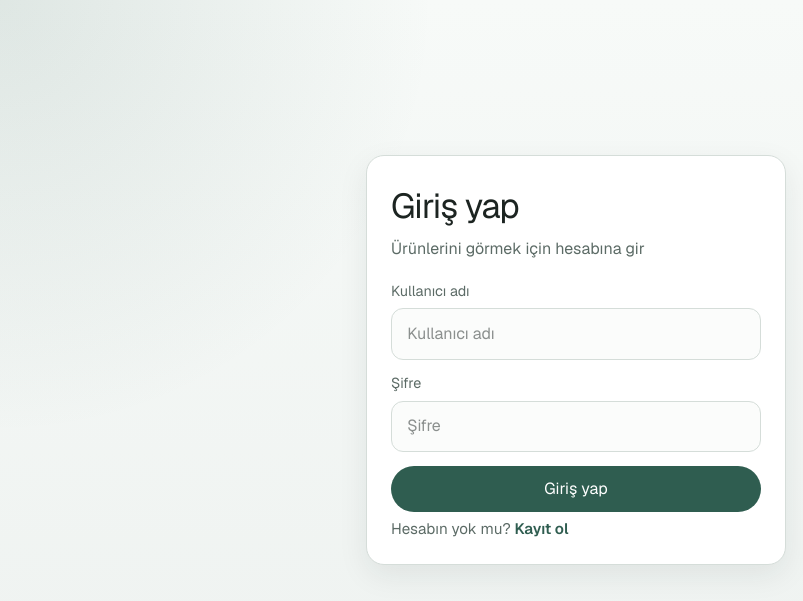
Test: LoginPage › should show error when credentials are wrong
The width and height of the screenshot is (803, 601).
Step 1. Type "fatih" into the field labelled "Kullanıcı adı" → coordinates (576, 334), box [391, 308, 761, 360]
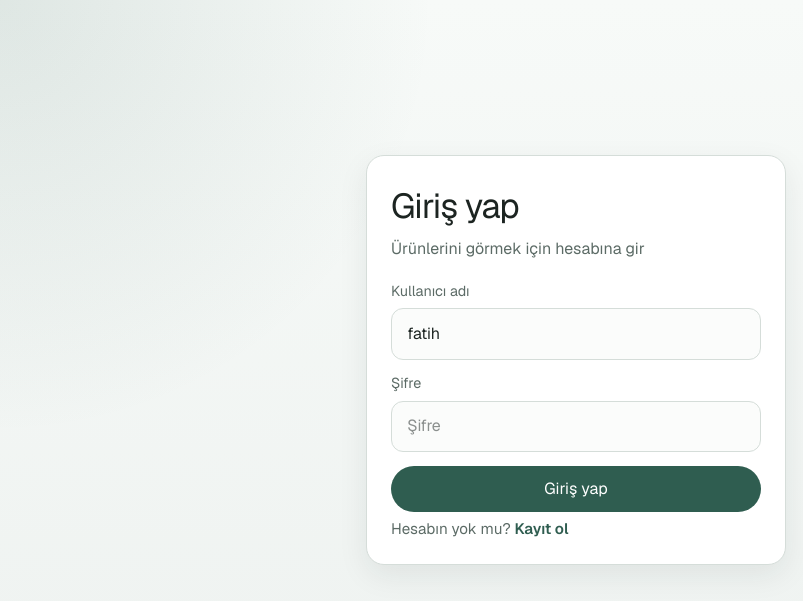
Step 2. Type "wrong-password" into the password field labelled "Şifre" → coordinates (576, 426), box [391, 400, 761, 452]
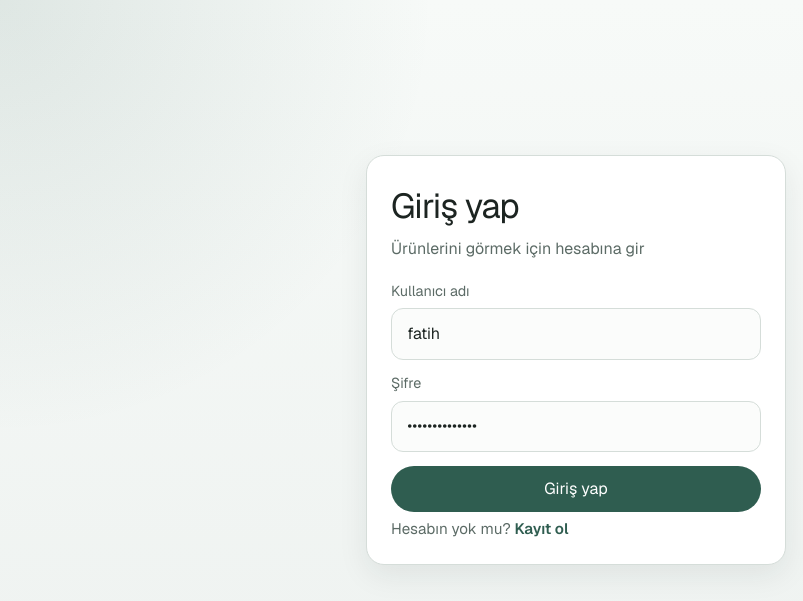
Step 3. Click the button "Giriş yap" → coordinates (576, 489), box [391, 466, 761, 512]
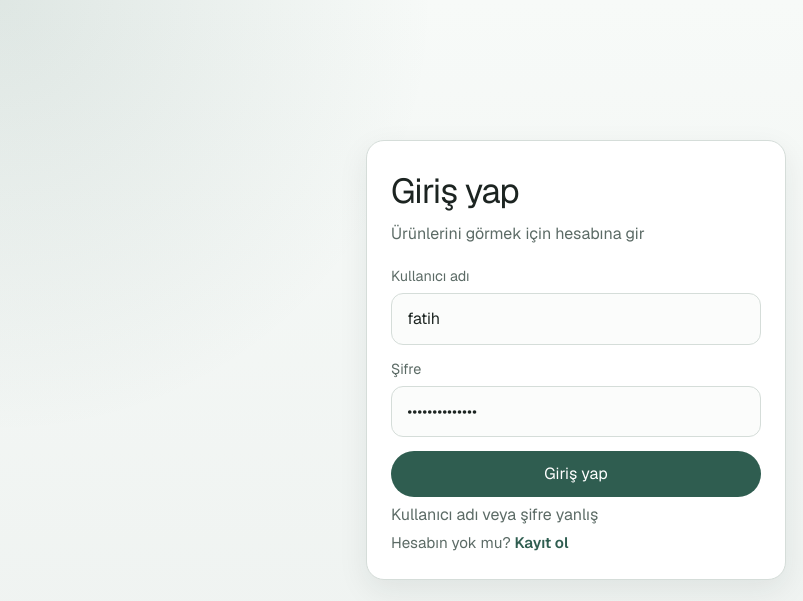
Expected: the text "Kullanıcı adı veya şifre yanlış" is shown, [391, 504, 598, 525]
